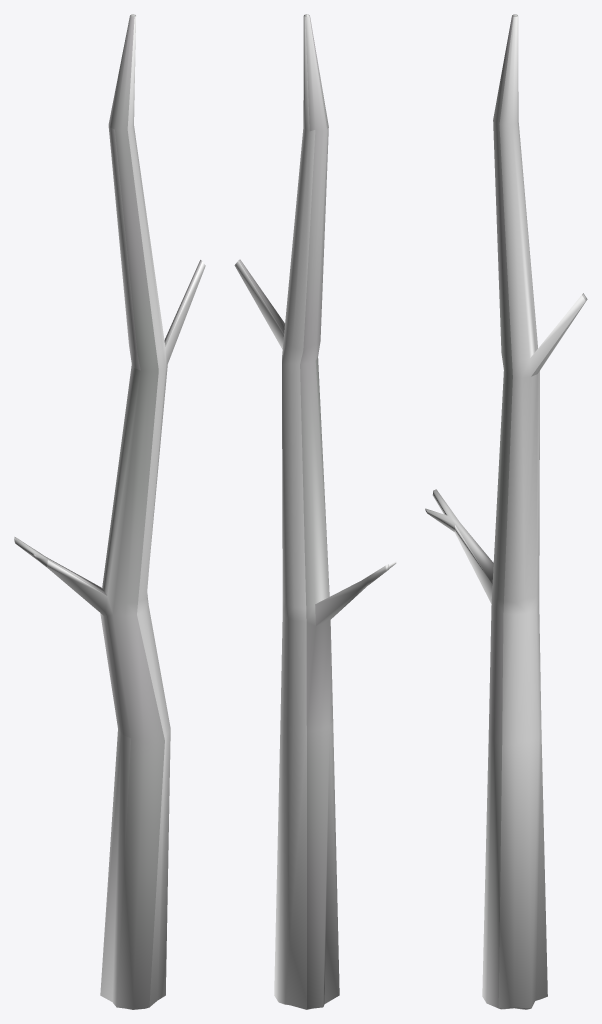
Rendered from SM_MarshmallowStick_02.obj.
3 renders of one model, left to right at view 1: azimuth 30°, elevation 25°; view 2: azimuth 150°, elevation 25°; view 3: azimuth 330°, elevation 25°, orthographic.
Visible parts, largest first — view 1: SM_MarshmallowStick_02_Mat_SwatchOverlay_PolygonTown_01_WoodRota; view 2: SM_MarshmallowStick_02_Mat_SwatchOverlay_PolygonTown_01_WoodRota; view 3: SM_MarshmallowStick_02_Mat_SwatchOverlay_PolygonTown_01_WoodRota.
Boxes of the visible parts, <box> form: SM_MarshmallowStick_02_Mat_SwatchOverlay_PolygonTown_01_WoodRota: <box>14,14,205,1009</box>; SM_MarshmallowStick_02_Mat_SwatchOverlay_PolygonTown_01_WoodRota: <box>234,14,396,1009</box>; SM_MarshmallowStick_02_Mat_SwatchOverlay_PolygonTown_01_WoodRota: <box>425,14,587,1009</box>.
Size of the model in its own units: 0.242 by 1.33 by 0.1037.
1 material, 1 textured.
